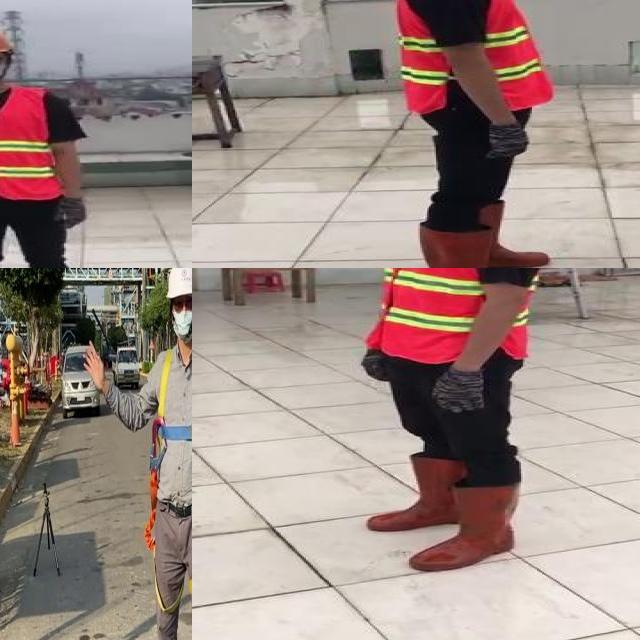Harness: (145, 350, 192, 551)
boots: (409, 481, 541, 574), (364, 447, 482, 534), (451, 200, 552, 268), (407, 224, 544, 268)
hand_glove: (434, 368, 491, 413), (477, 124, 548, 159), (55, 198, 87, 230)
person: (345, 268, 564, 580), (386, 0, 565, 268), (0, 22, 96, 268)
vest: (359, 268, 551, 364), (393, 0, 553, 115), (0, 87, 60, 202)
